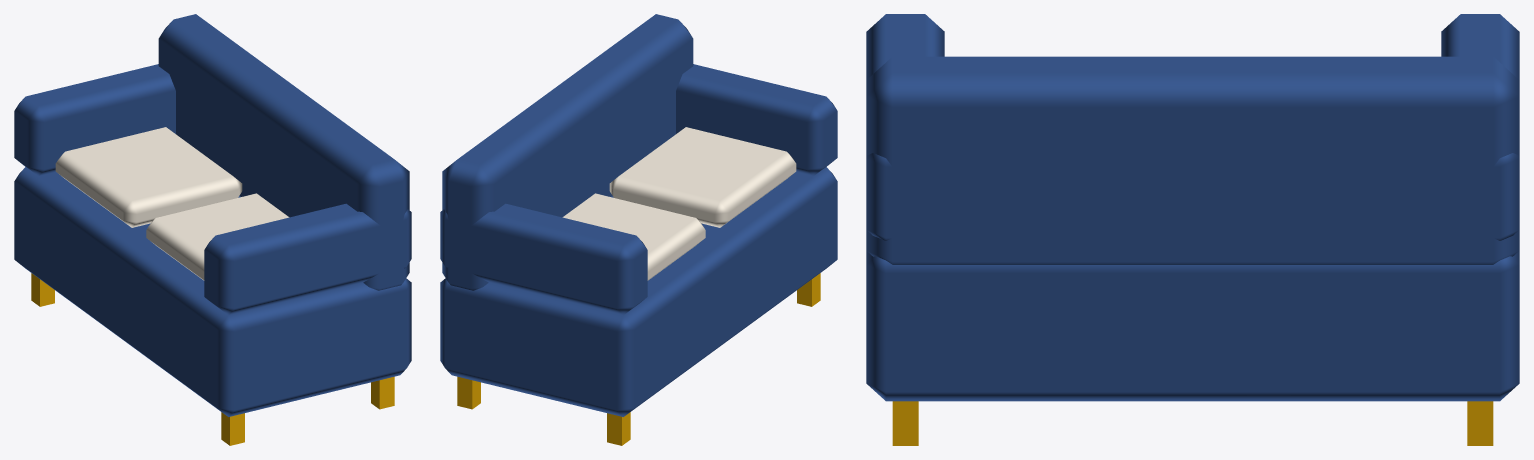
The model's file is station_special_ausstattung_3_1.glb.
The picture shows the model from 3 angles, left to right: view 1: azimuth 30°, elevation 25°; view 2: azimuth 150°, elevation 25°; view 3: azimuth 270°, elevation 25°; orthographic projection. The views are drawn at different scales.
Visible parts, largest first — view 1: station_special_ausstattung_3_1; view 2: station_special_ausstattung_3_1; view 3: station_special_ausstattung_3_1.
Part boxes in pixels (x1,y1,x2,y2): station_special_ausstattung_3_1: [14, 14, 411, 445]; station_special_ausstattung_3_1: [440, 14, 837, 445]; station_special_ausstattung_3_1: [866, 14, 1519, 445].
Size of the model in its own units: 0.52 by 0.63 by 1.
